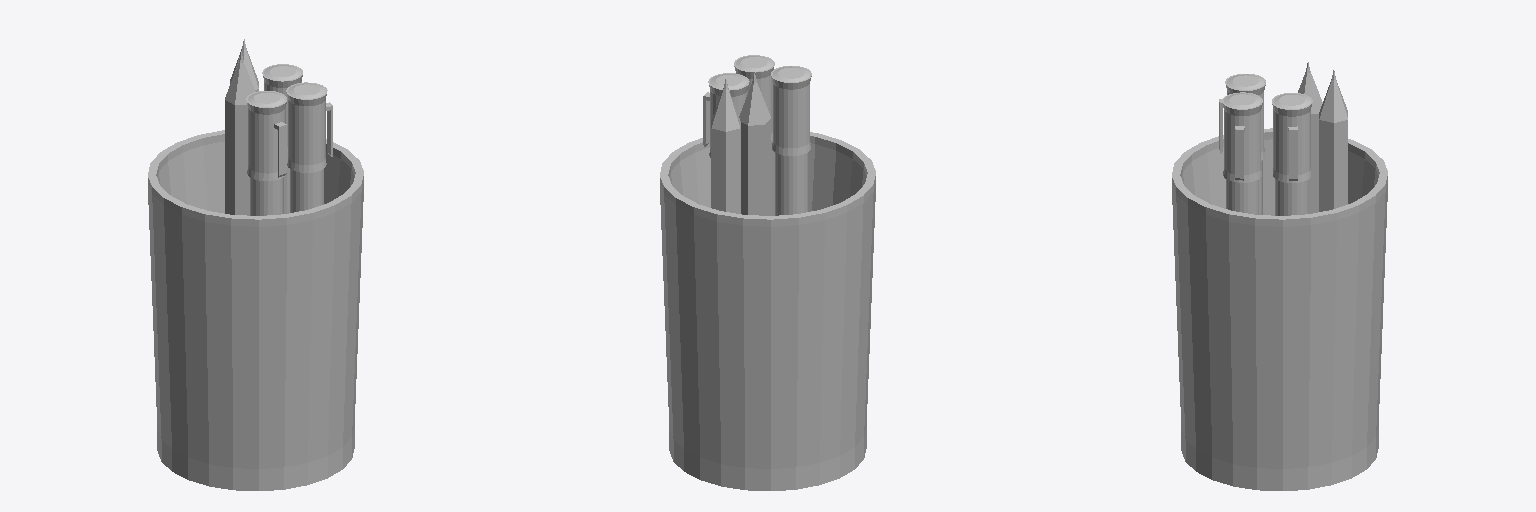
The model's file is pencils.obj.
The picture shows the model from 3 angles: view 1: azimuth 30°, elevation 25°; view 2: azimuth 150°, elevation 25°; view 3: azimuth 270°, elevation 25°; orthographic projection.
Parts seen in each view (by area): view 1: Group_10_001, Group_005, Group_002, Group_010, Group_004, Group_001, Group_008, Group_012; view 2: Group_10_001, Group_002, Group_010, Group_013, Group_001, Group_005, Group_008, Group_012, Group_015; view 3: Group_10_001, Group_008, Group_005, Group_013, Group_007, Group_004, Group_002, Group_010, Group_015.
Part boxes in pixels (bbox=[...]): Group_10_001: bbox=[148, 130, 363, 490]; Group_005: bbox=[286, 82, 327, 172]; Group_002: bbox=[246, 91, 286, 180]; Group_010: bbox=[225, 100, 249, 215]; Group_004: bbox=[290, 169, 323, 212]; Group_001: bbox=[250, 177, 283, 215]; Group_008: bbox=[262, 64, 302, 153]; Group_012: bbox=[225, 62, 255, 104]; Group_10_001: bbox=[660, 132, 875, 490]; Group_002: bbox=[771, 66, 811, 155]; Group_010: bbox=[741, 119, 770, 215]; Group_013: bbox=[711, 128, 740, 213]; Group_001: bbox=[775, 153, 807, 215]; Group_005: bbox=[734, 55, 774, 140]; Group_008: bbox=[708, 73, 749, 157]; Group_012: bbox=[739, 83, 770, 125]; Group_015: bbox=[711, 88, 740, 131]; Group_10_001: bbox=[1172, 128, 1387, 490]; Group_008: bbox=[1272, 93, 1312, 182]; Group_005: bbox=[1222, 92, 1262, 182]; Group_013: bbox=[1319, 120, 1347, 211]; Group_007: bbox=[1275, 179, 1308, 215]; Group_004: bbox=[1226, 179, 1258, 214]; Group_002: bbox=[1225, 74, 1265, 160]; Group_010: bbox=[1309, 114, 1318, 213]; Group_015: bbox=[1319, 79, 1347, 122].
Size of the model in its own units: 3.15 by 6.22 by 3.15.